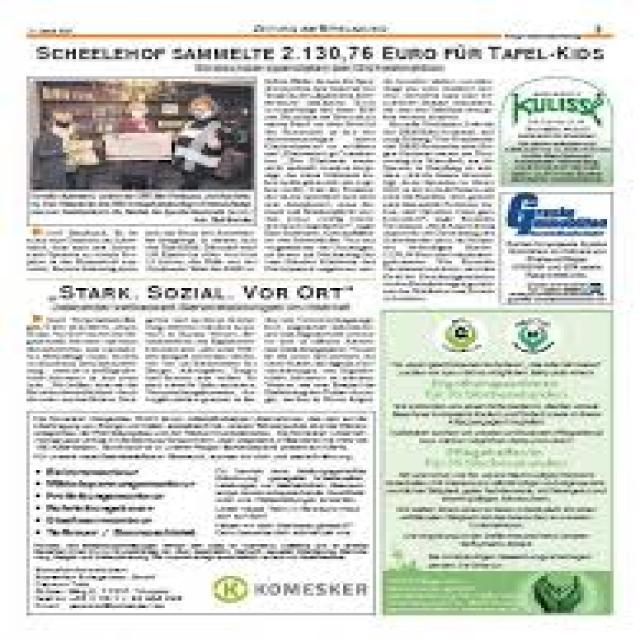paper: (5, 8, 625, 623)
